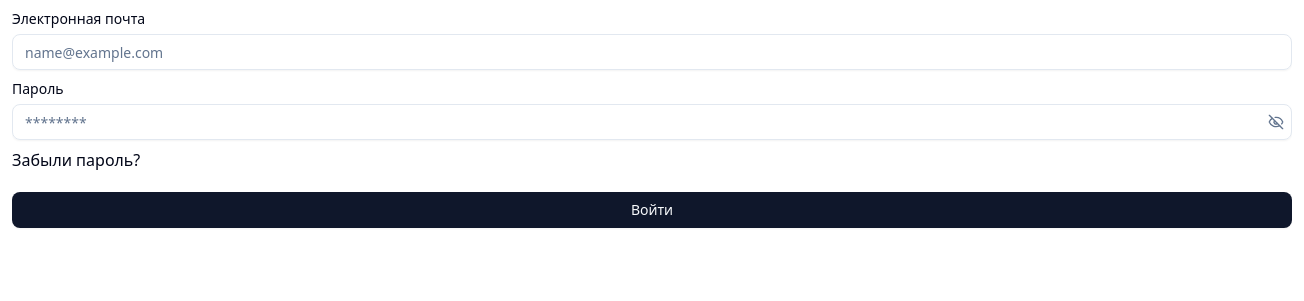
Test case: UserAuthForm › shows validation error for invalid email
This screenshot has width=1304, height=301.
Type "notanemail" into the field labelled "Электронная почта" at (652, 52), box left=12, top=34, right=1292, bottom=70
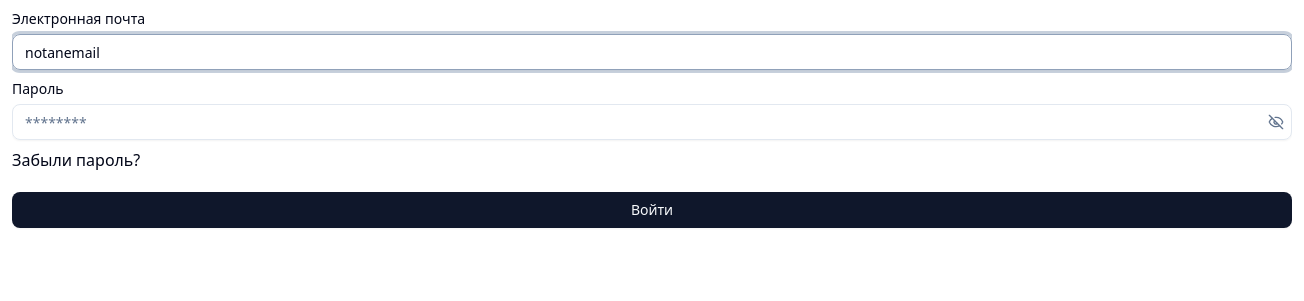
Click the button "Войти" at (652, 210), box left=12, top=192, right=1292, bottom=228
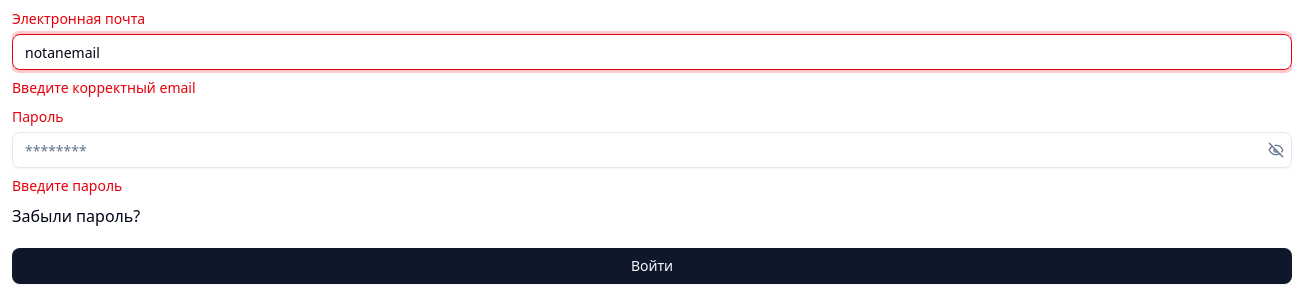
expect the text "Введите корректный email" is shown: met, box left=12, top=78, right=196, bottom=97
